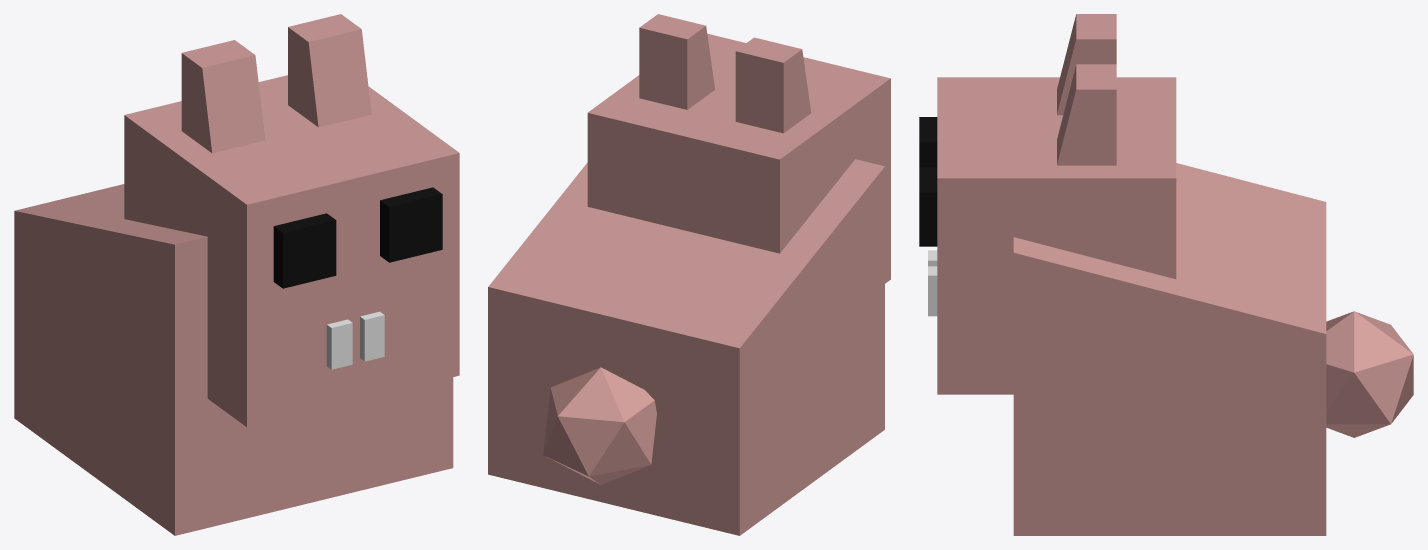
The model's file is rabbitf 1.fbx.
3 renders of one model, left to right at view 1: azimuth 30°, elevation 25°; view 2: azimuth 150°, elevation 25°; view 3: azimuth 270°, elevation 25°, orthographic. The views are drawn at different scales.
Visible parts, largest first — view 1: Cube.001; view 2: Cube.001; view 3: Cube.001.
Boxes of the visible parts, box(x1,y1,x2,y2) form: Cube.001: box(14, 14, 459, 535); Cube.001: box(488, 14, 890, 535); Cube.001: box(919, 14, 1413, 535).
Size of the model in its own units: 0.5184 by 0.7651 by 0.8203.
